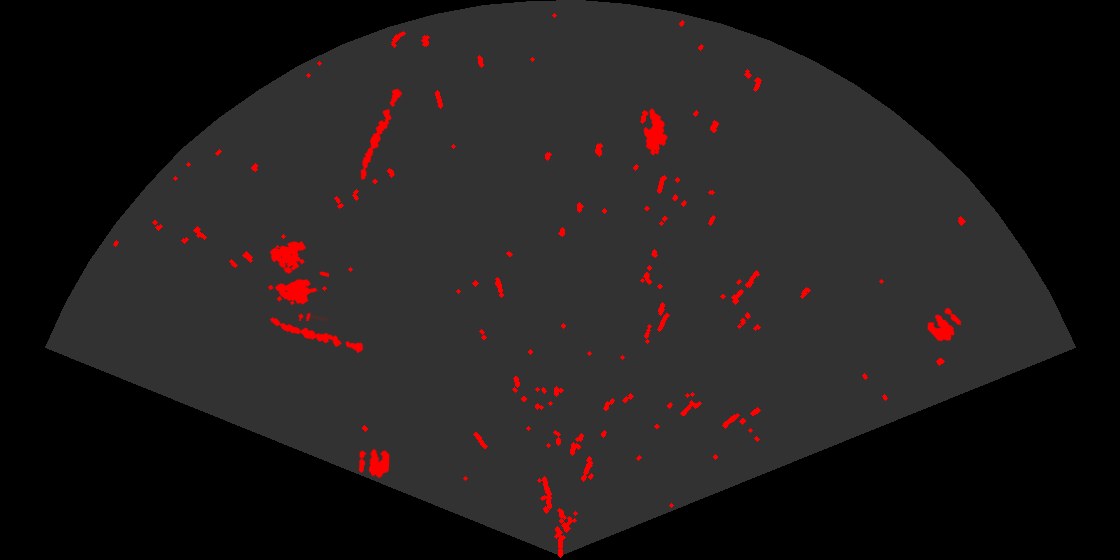AUV: (642, 107, 669, 157)
ball: (926, 306, 963, 343), (357, 447, 391, 479)
cage: (266, 239, 329, 321)
chain: (359, 87, 404, 182), (268, 316, 366, 355)
